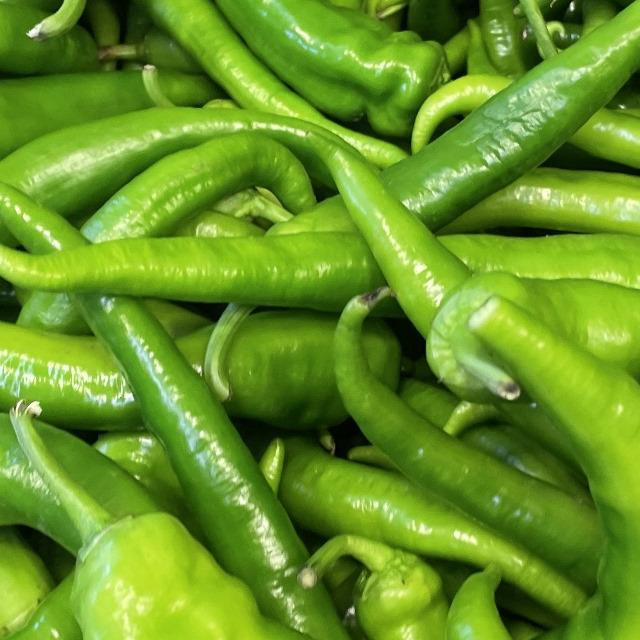chili_pepper: (157, 0, 477, 147)
